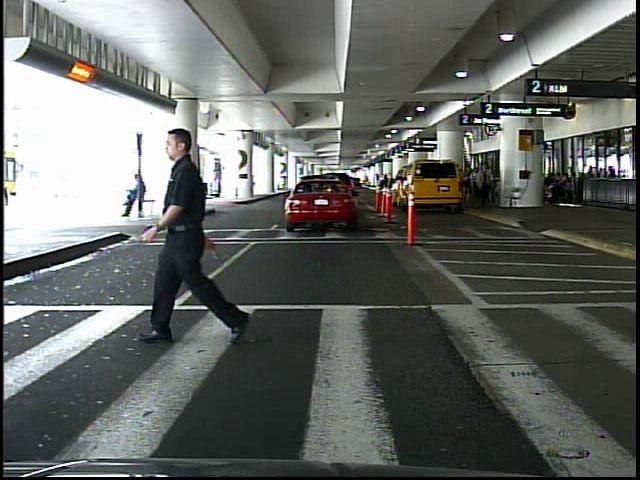person: (136, 124, 261, 350), (478, 163, 495, 208)
